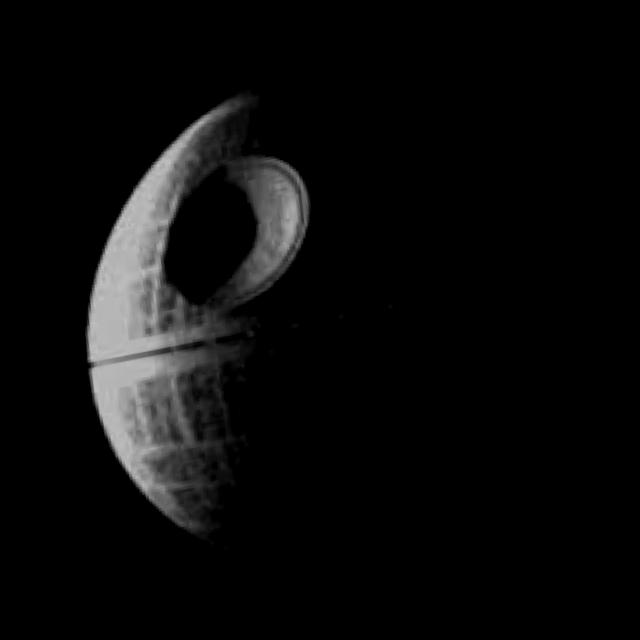death-stars: (88, 69, 625, 569)
